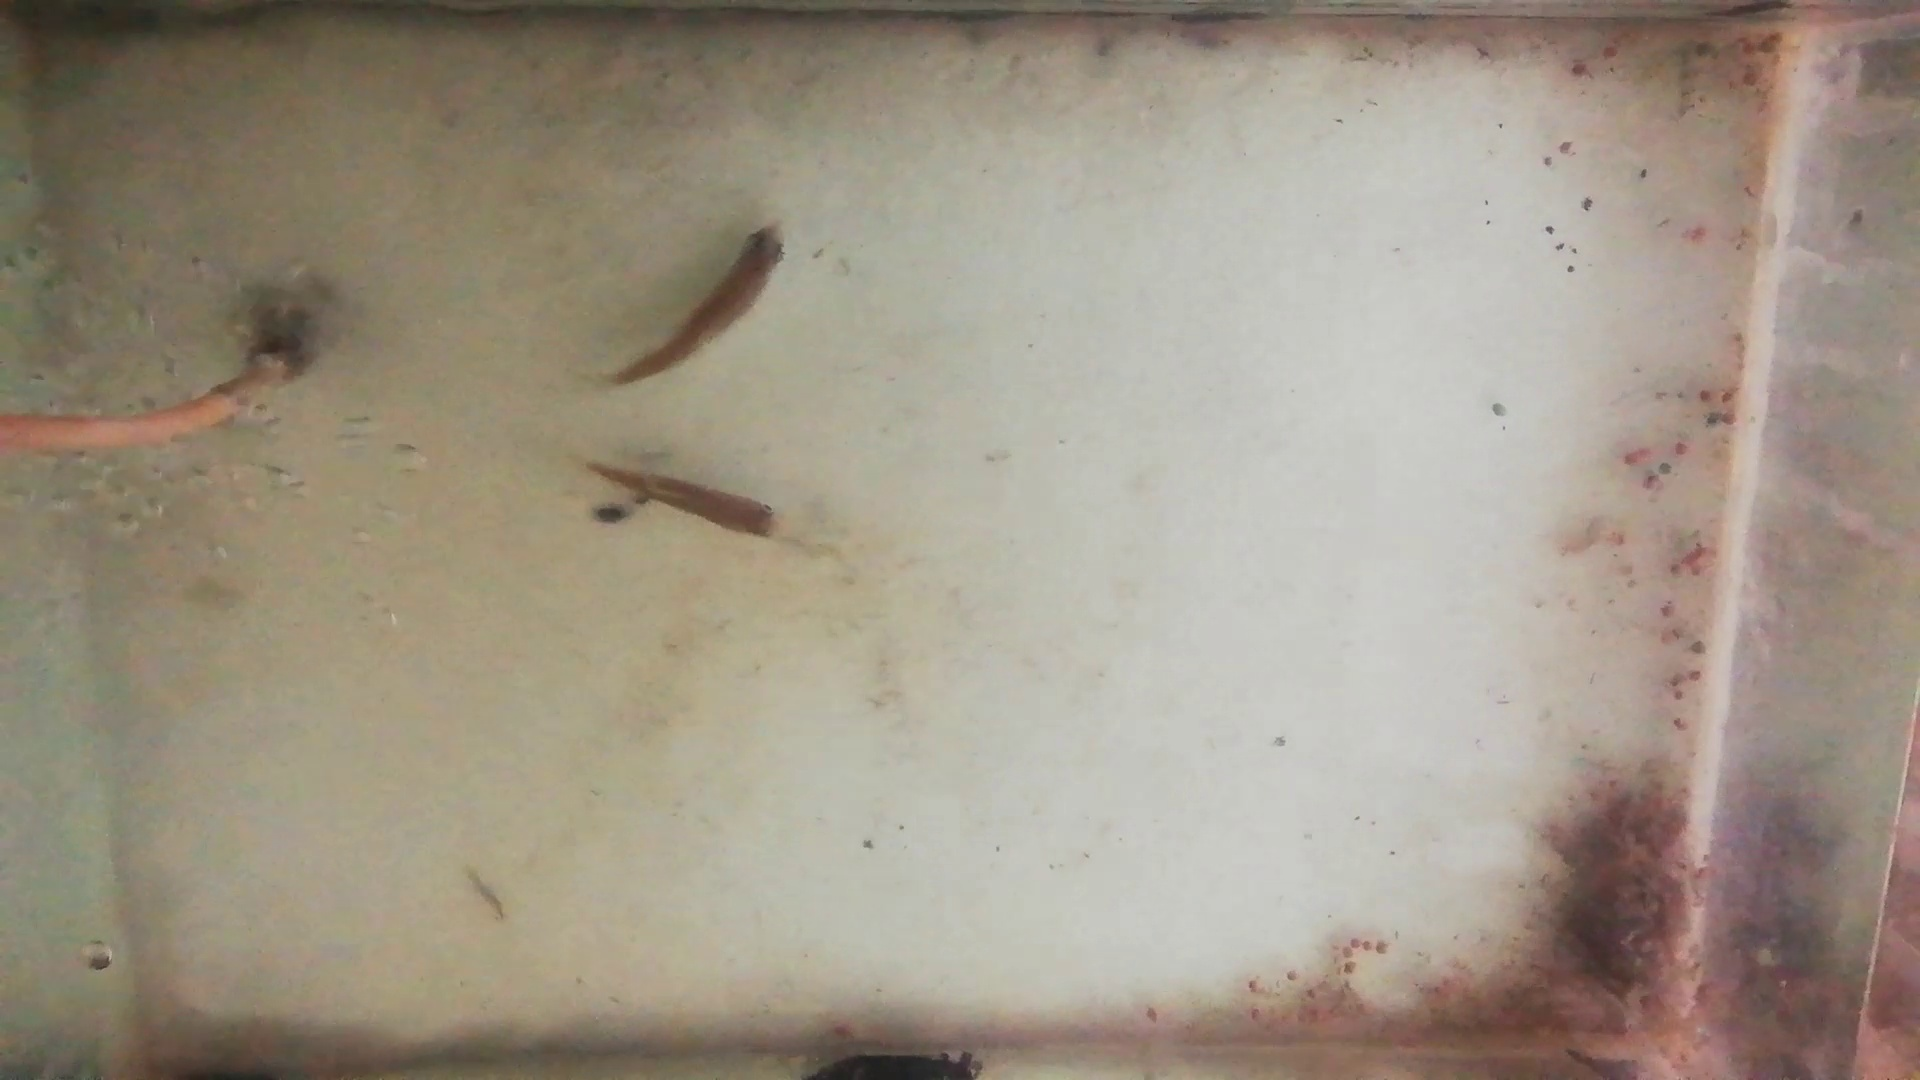fish: (611, 223, 793, 389), (578, 456, 790, 545)
